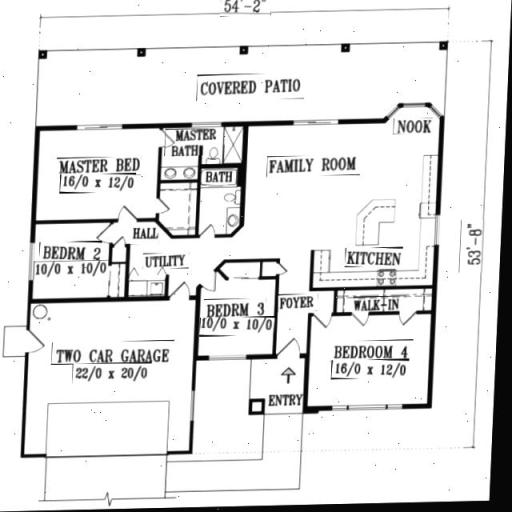Room: (250, 131, 434, 236)
bathroom: (162, 128, 236, 236)
bedroom: (40, 128, 161, 218), (319, 318, 421, 405), (35, 226, 127, 293), (203, 299, 280, 350)
garage: (31, 307, 189, 453)
hall: (126, 225, 220, 285)
kitchen: (300, 233, 430, 293)
